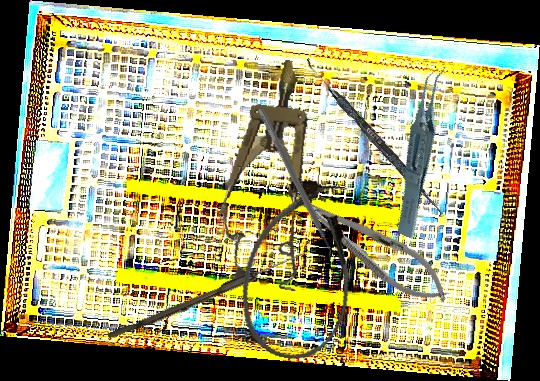Cannula: (228, 170, 373, 369)
Needle Holder: (281, 176, 459, 316)
Spatula Surgical: (299, 58, 447, 214), (250, 107, 339, 261)
Speculum: (209, 53, 334, 292)
Surgical Spoon: (107, 246, 307, 345)
Tissue Forceps: (364, 64, 482, 240)
